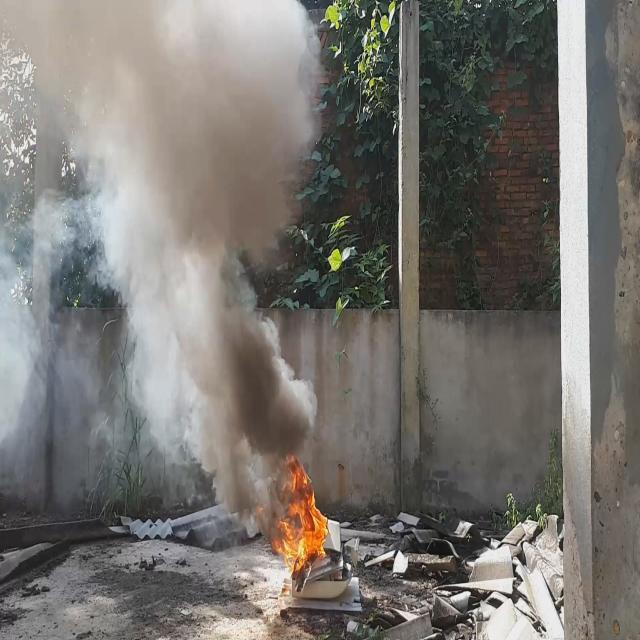Fire: (266, 448, 332, 582)
Smoke: (0, 0, 321, 535)
